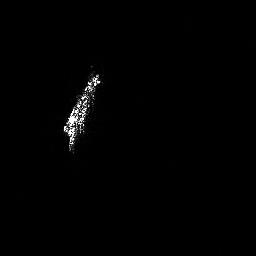ship: (58, 66, 101, 158)
